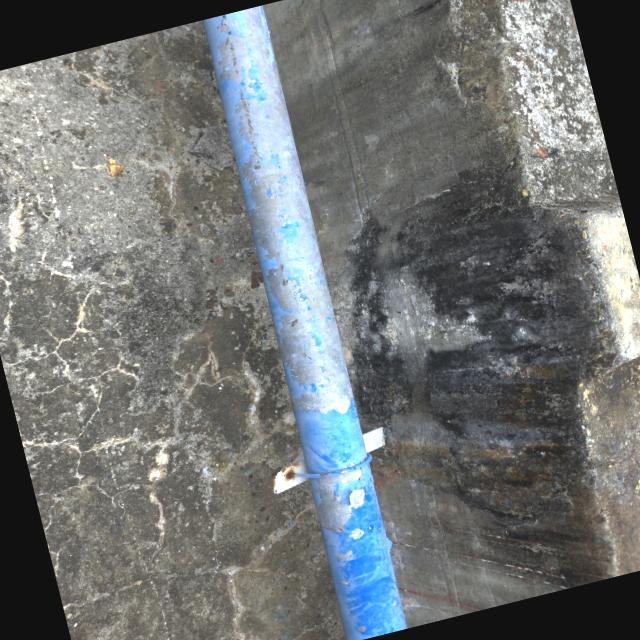gas: (186, 4, 417, 640)
